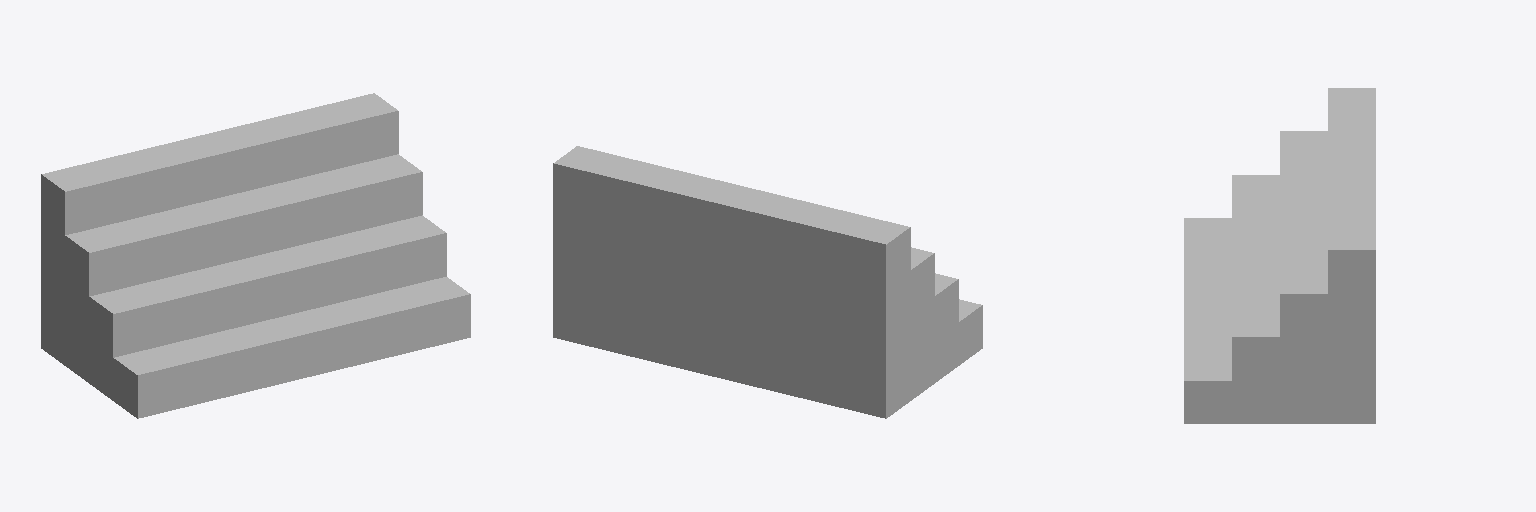
The model's file is lvl_Stairway.obj.
3 renders of one model, left to right at view 1: azimuth 30°, elevation 25°; view 2: azimuth 150°, elevation 25°; view 3: azimuth 270°, elevation 25°, orthographic.
Visible parts, largest first — view 1: Default; view 2: Default; view 3: Default.
Part boxes in pixels (bbox=[...]): Default: bbox=[41, 93, 470, 418]; Default: bbox=[553, 146, 982, 418]; Default: bbox=[1184, 88, 1375, 423].
Size of the model in its own units: 8 by 4 by 4.